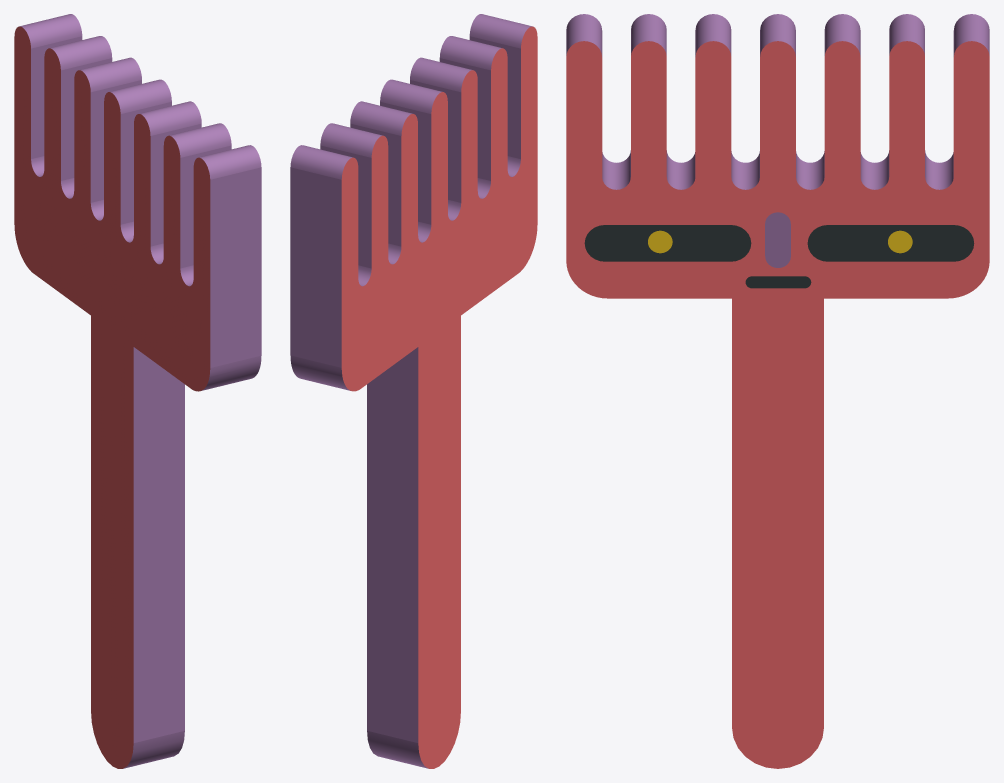
Rendered from fourchette.dae.
3 renders of one model, left to right at view 1: azimuth 30°, elevation 25°; view 2: azimuth 150°, elevation 25°; view 3: azimuth 270°, elevation 25°, orthographic. The views are drawn at different scales.
Visible parts, largest first — view 1: instance_0 (×2); view 2: instance_0 (×2); view 3: instance_0 (×6).
Part boxes in pixels (bbox=[...]): instance_0 (×2): bbox=[14, 14, 261, 768]; instance_0 (×2): bbox=[290, 14, 537, 768]; instance_0 (×6): bbox=[566, 14, 989, 768].
Size of the model in its own units: 11.94 by 78.94 by 150.
